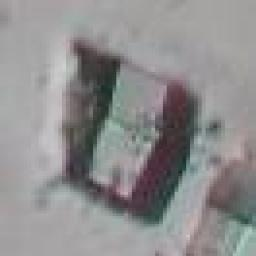crystals: (64, 42, 202, 228)
